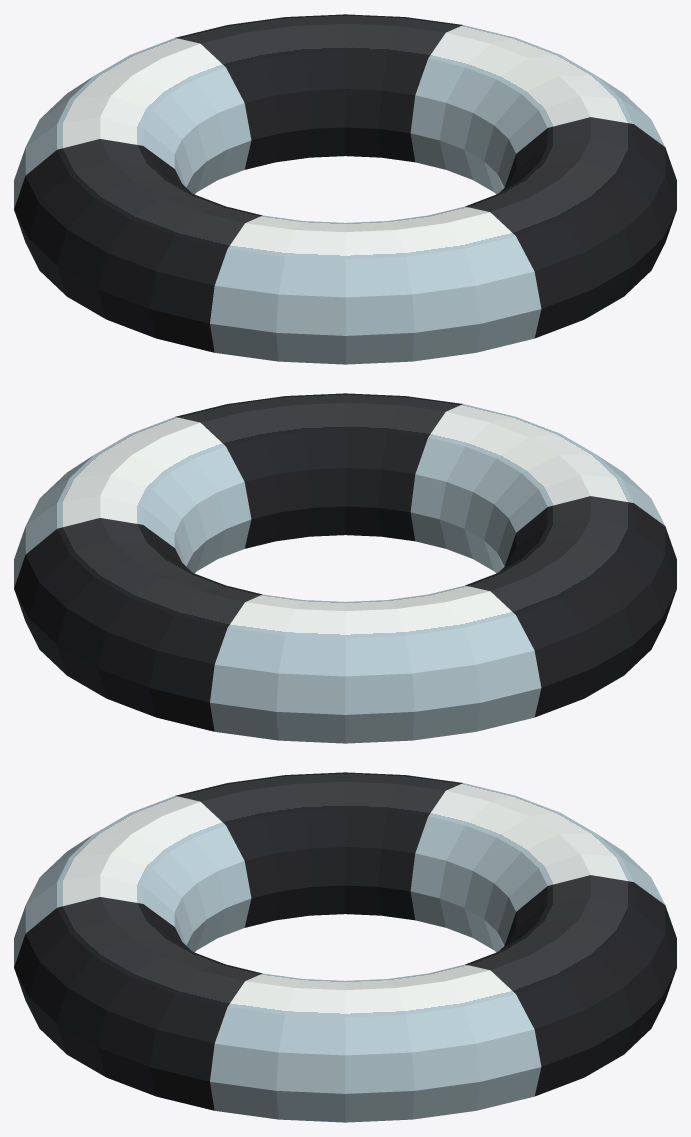
Rendered from hole.fbx.
3 views of the same model, one above another, from view 1: azimuth 30°, elevation 25°; view 2: azimuth 150°, elevation 25°; view 3: azimuth 270°, elevation 25° (orthographic).
Visible parts, largest first — view 1: SpinableHole_1; view 2: SpinableHole_1; view 3: SpinableHole_1.
Boxes of the visible parts, <box> form: SpinableHole_1: <box>14,14,676,364</box>; SpinableHole_1: <box>14,393,676,743</box>; SpinableHole_1: <box>14,772,676,1122</box>.
Bounding box in the file's own units: 100 × 16.66 × 99.45.
